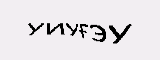И: (44, 18, 66, 35)
У: (107, 21, 136, 47), (25, 19, 44, 35), (65, 20, 78, 39)
Э: (90, 19, 107, 42)
Ғ: (79, 17, 89, 40)
